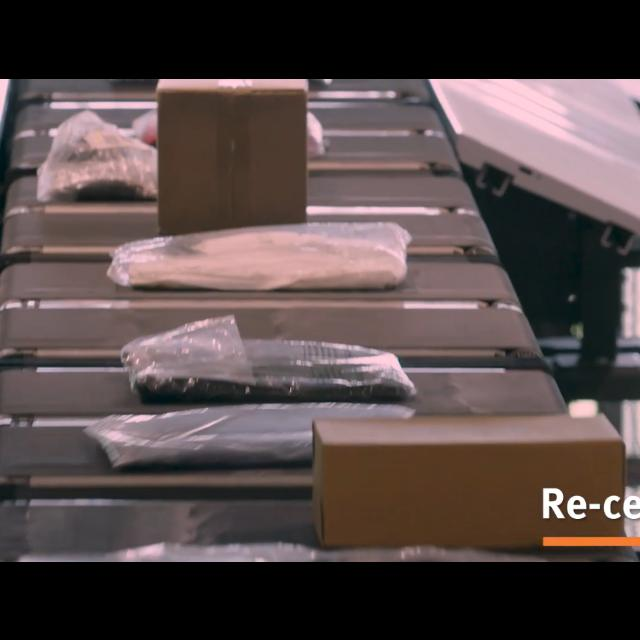box: (312, 413, 626, 549), (154, 78, 312, 236)
mailer: (124, 330, 416, 402), (98, 404, 414, 464), (114, 224, 410, 288), (40, 120, 156, 200)
